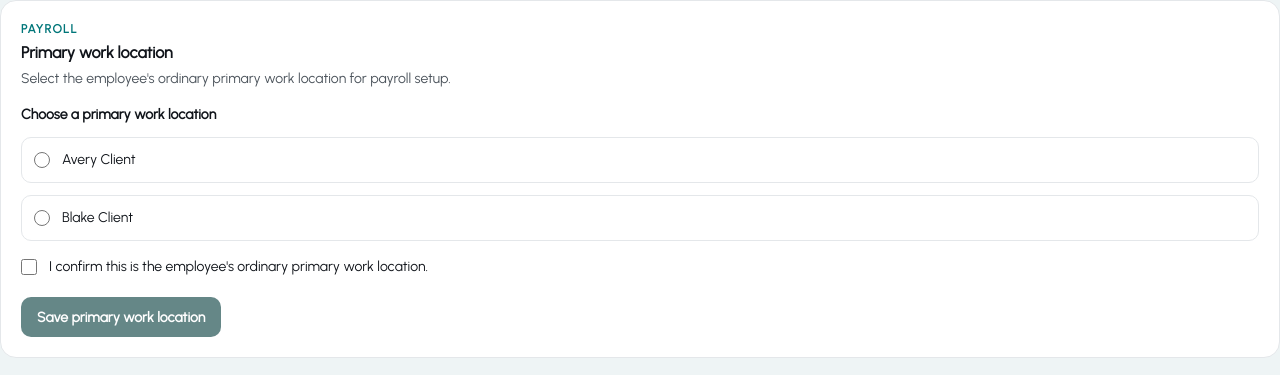
Test: EmployeePrimaryWorkplaceCard › requires an accessible selection and ordinary-primary-work-location attestation
expect the element "Choose a primary work location" is shown: met, box x1=21 y1=105 x2=1259 y2=241
expect the button "Save primary work location" is disabled: met, box x1=21 y1=297 x2=221 y2=337
Click the radio button labelled "Avery Client" at (42, 160), box x1=34 y1=152 x2=50 y2=168
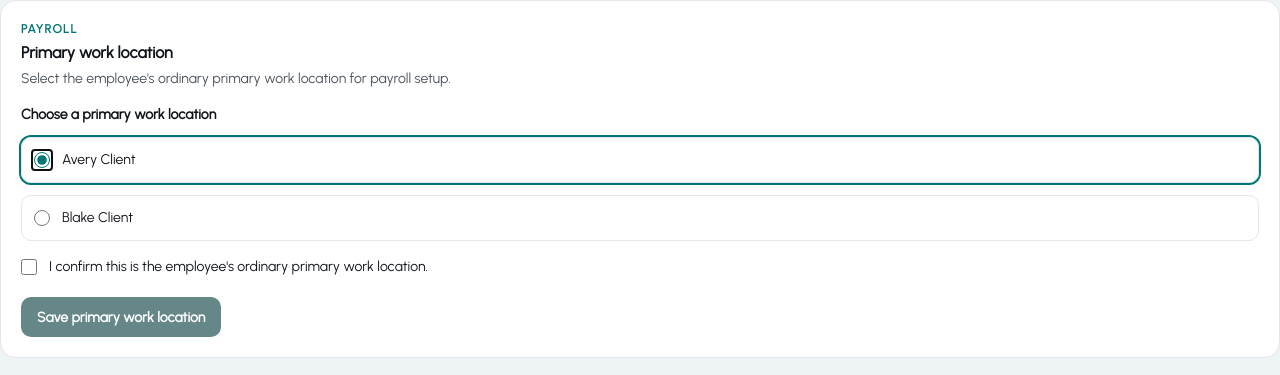
expect the button "Save primary work location" is disabled: met, box x1=21 y1=297 x2=221 y2=337
Click the checkbox labelled "ordinary primary work location" at (29, 267), box x1=21 y1=259 x2=37 y2=275
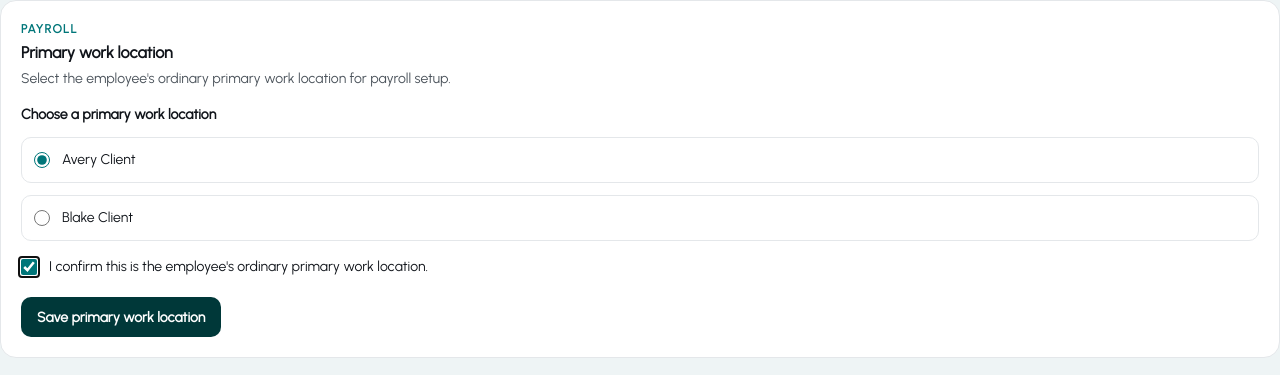
expect the button "Save primary work location" is enabled: met, box x1=21 y1=297 x2=221 y2=337
